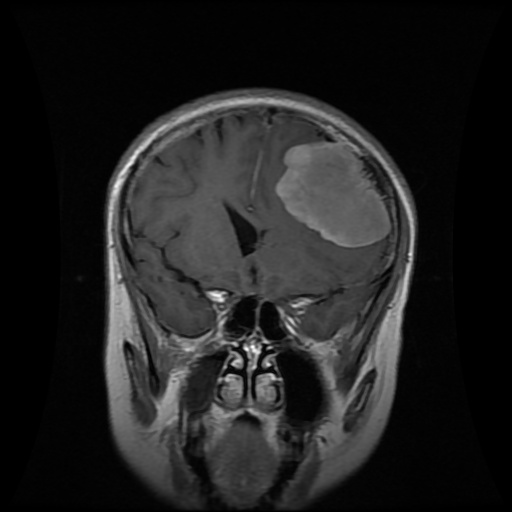meningioma: (276, 141, 391, 247)
